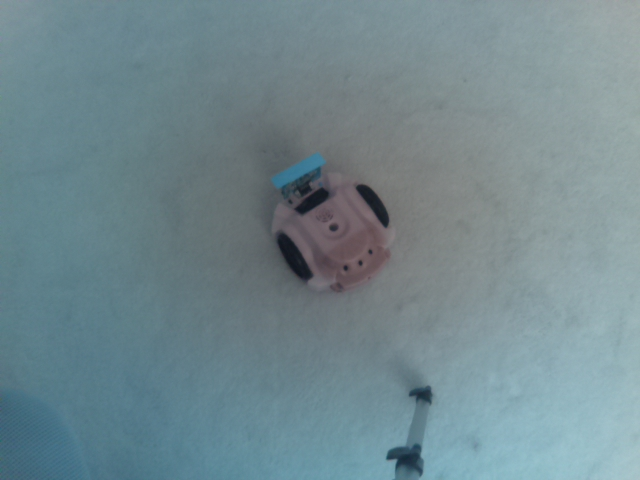board: (269, 148, 334, 199)
chassis: (260, 148, 405, 294)
